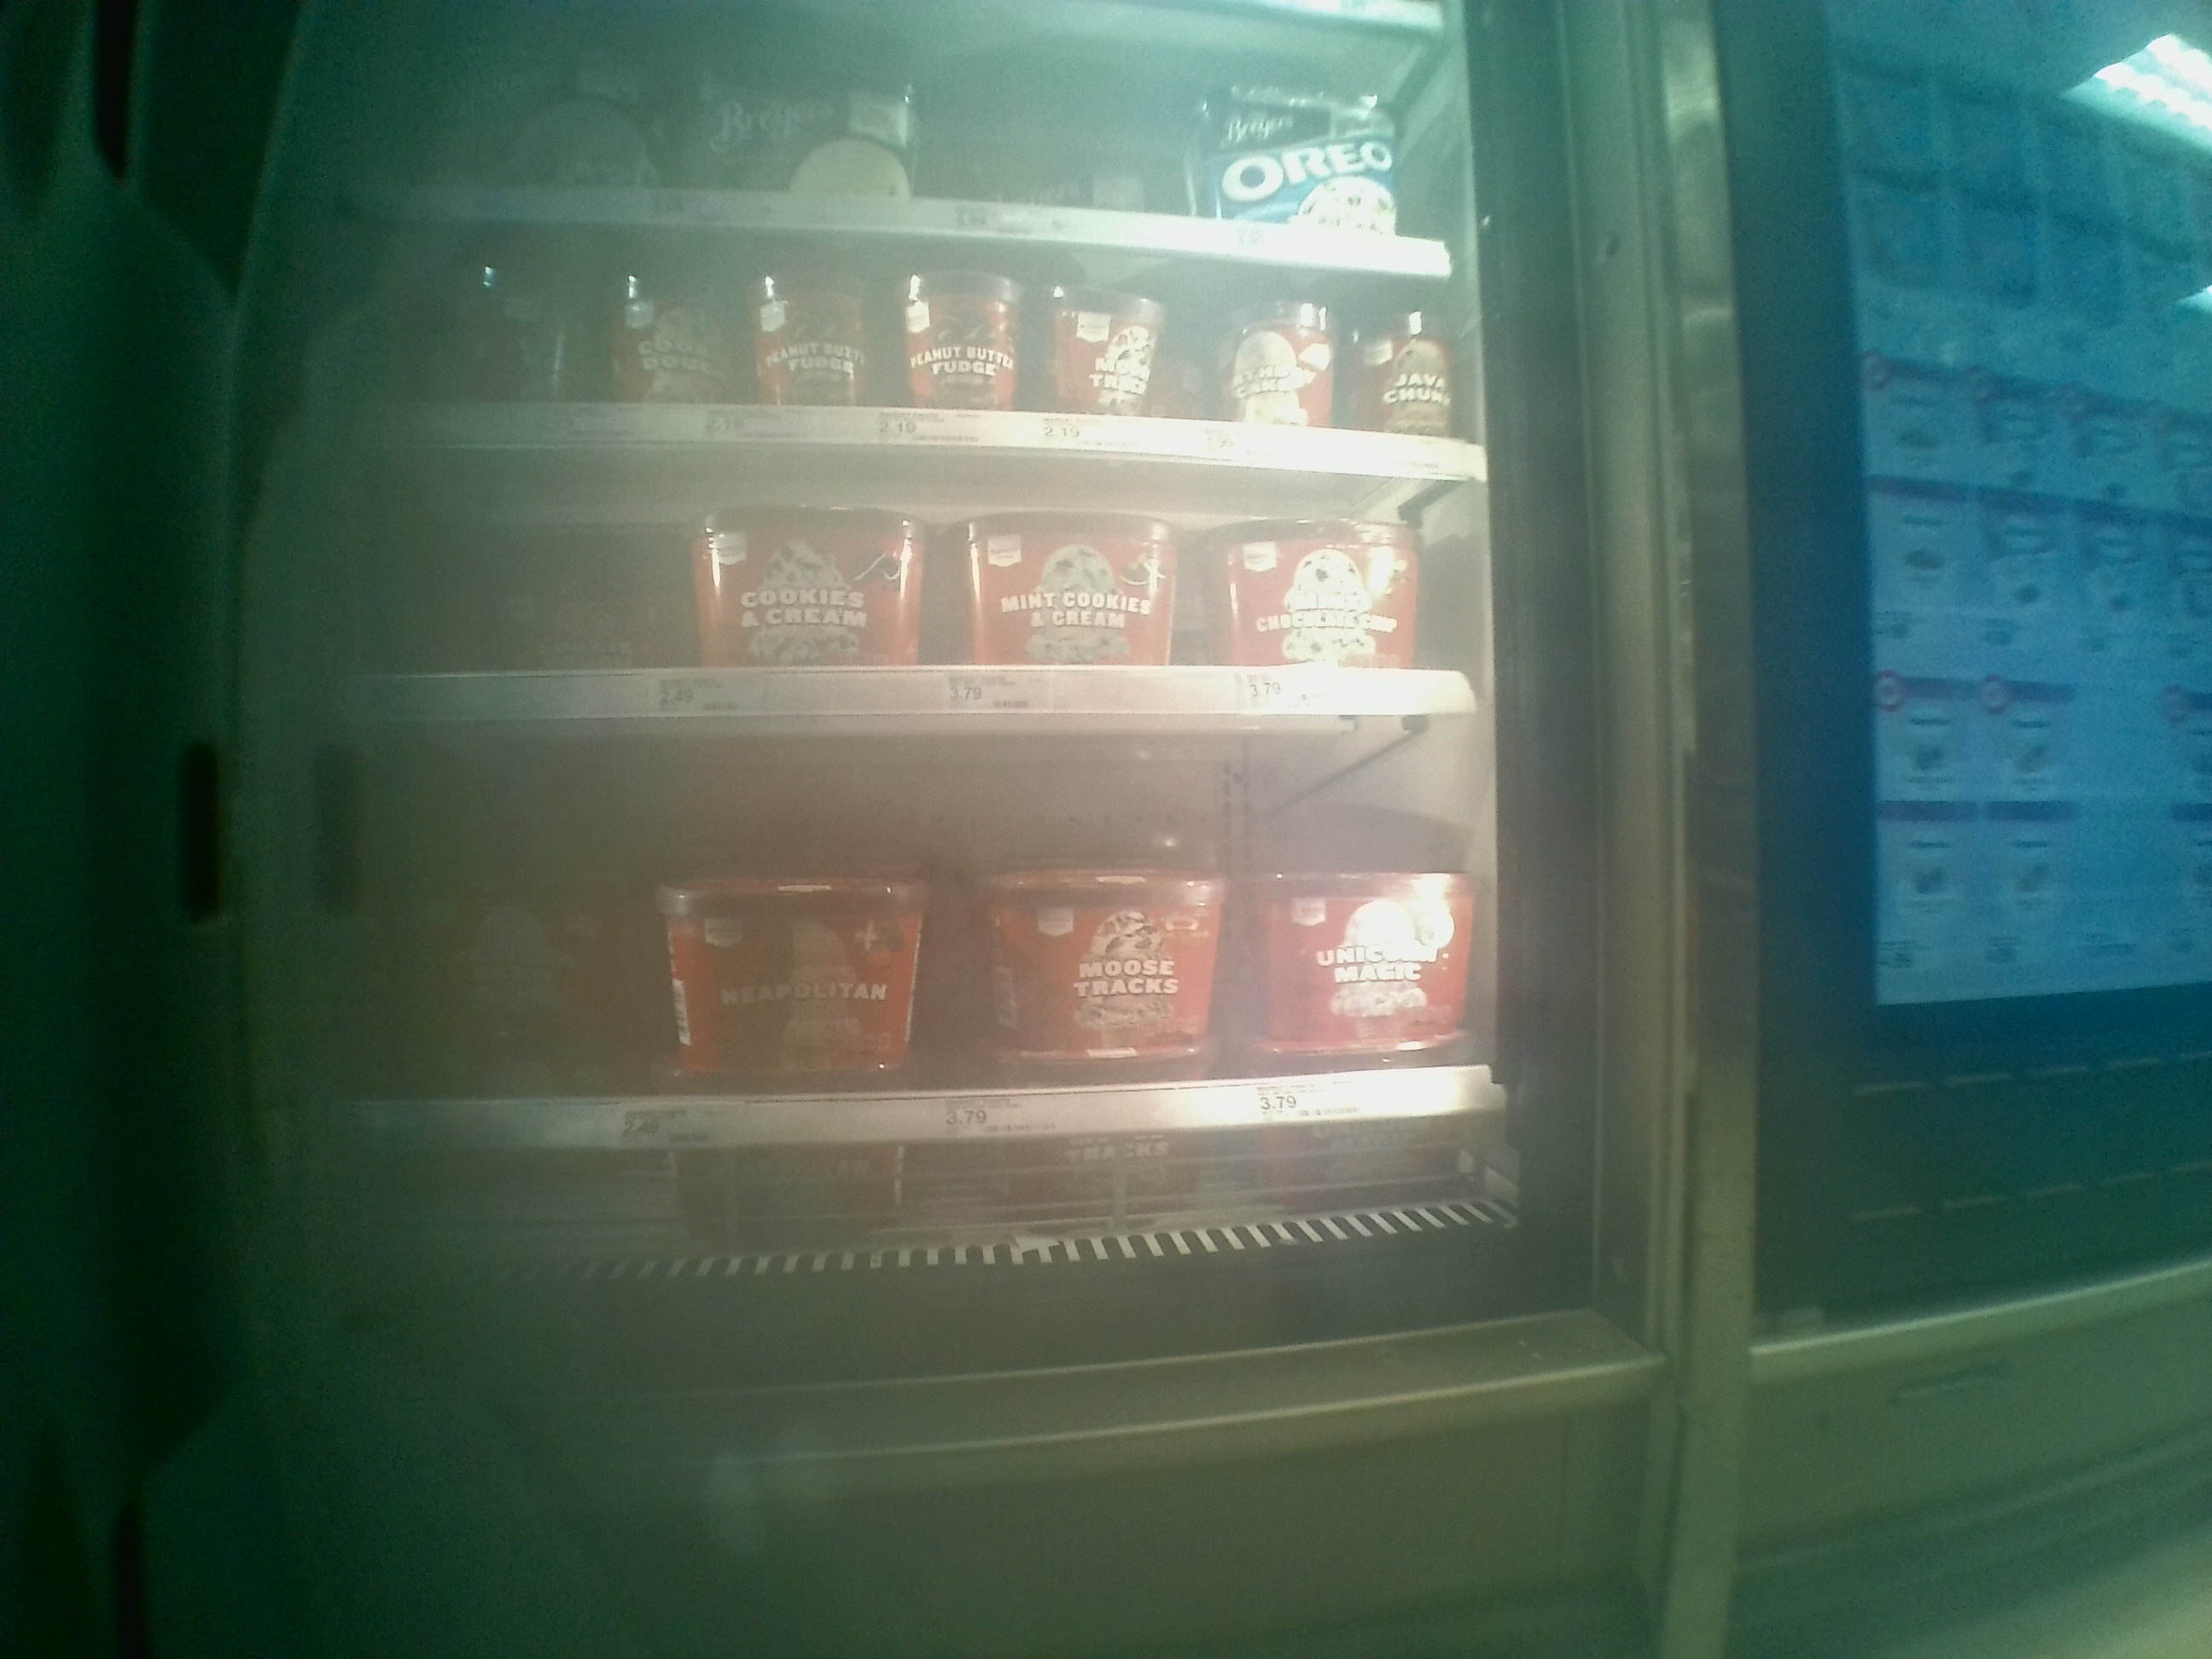shelf: (291, 751, 1521, 1157), (305, 213, 1479, 495), (298, 481, 1477, 742)
